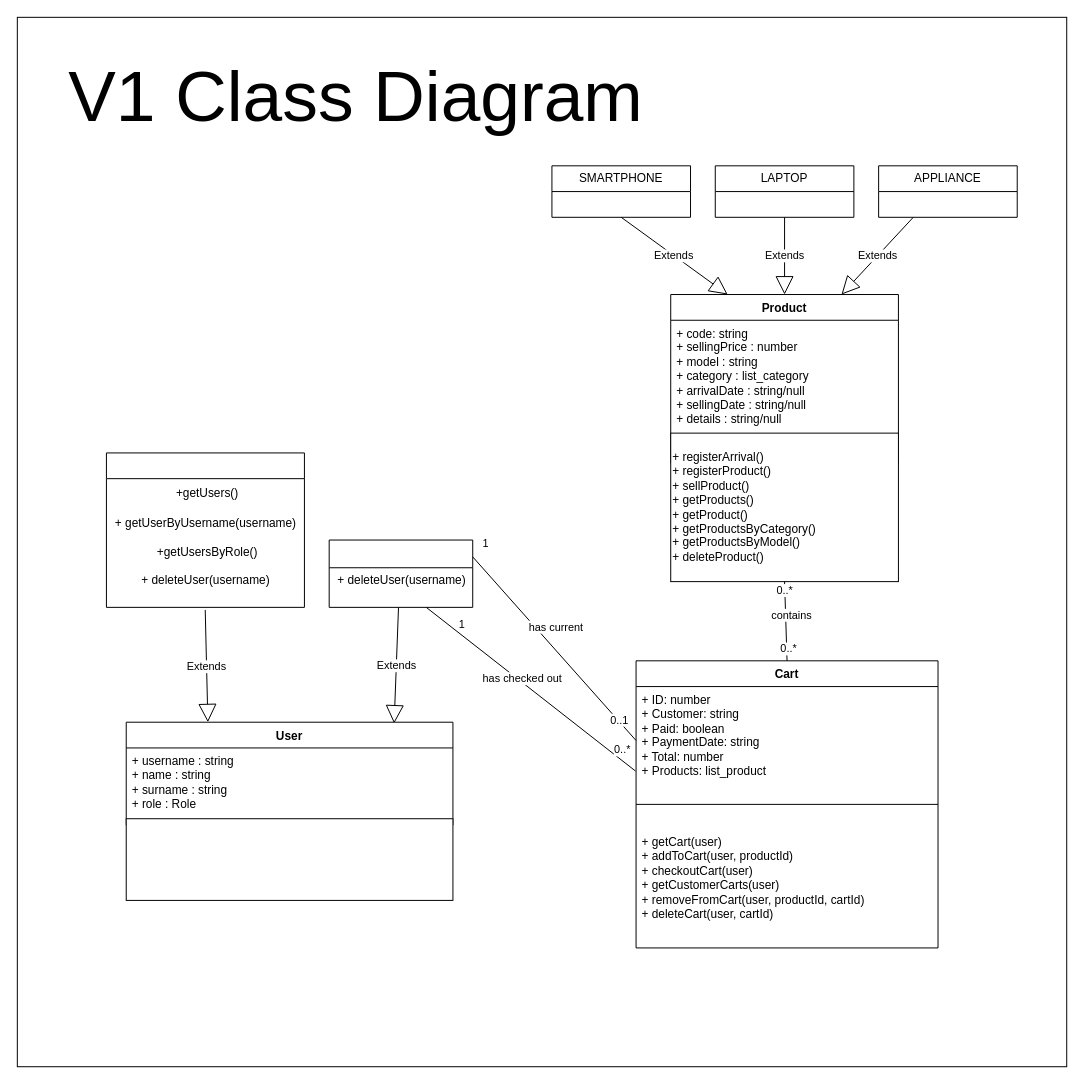
The diagram is 1084 pixels wide and 1084 high, and some of its shapes have lost their labels. Each missing label, with the box of its shape:
+ createUser(username, name, surname, password, role): (125, 818, 453, 900)
Customer: (328, 539, 473, 607)
Manager: (105, 452, 304, 607)
